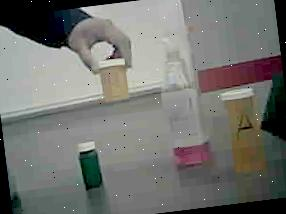Bottle A: (218, 80, 279, 182)
Bottle B: (88, 52, 136, 108)
Bottle C: (74, 135, 108, 200)
hazard: (148, 22, 218, 174)
